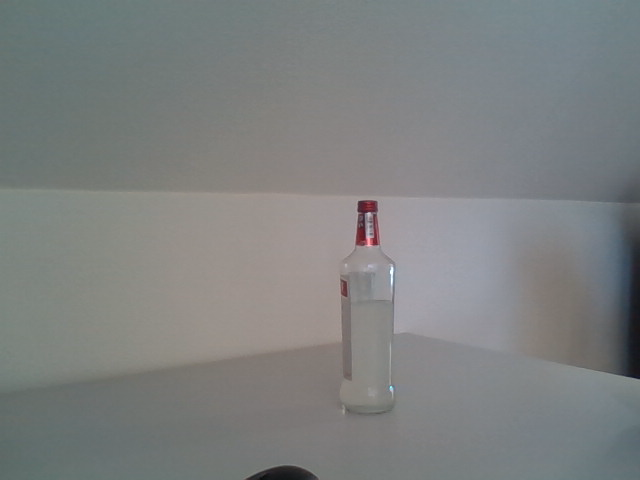bottle: (339, 199, 396, 416)
